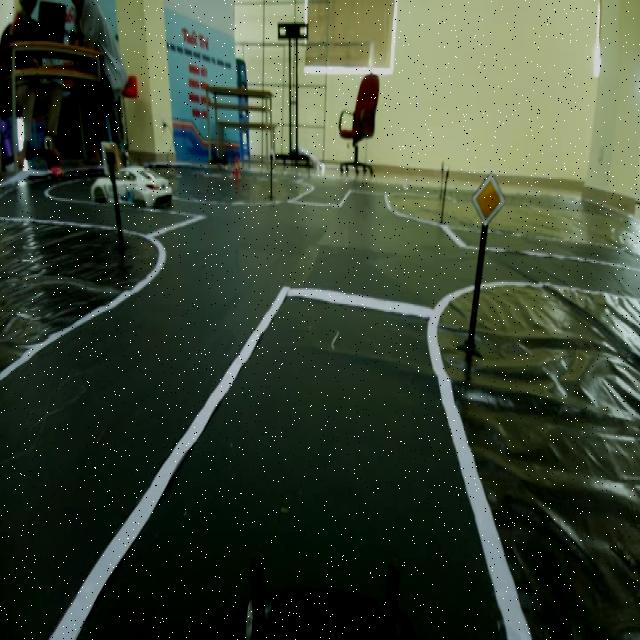priority: (468, 169, 510, 235)
